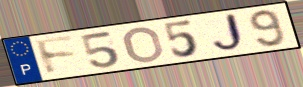5: (78, 29, 122, 70), (162, 17, 203, 60)
9: (246, 8, 289, 48)
F: (33, 35, 80, 77)
J: (209, 11, 248, 54)
O: (123, 26, 167, 64)
